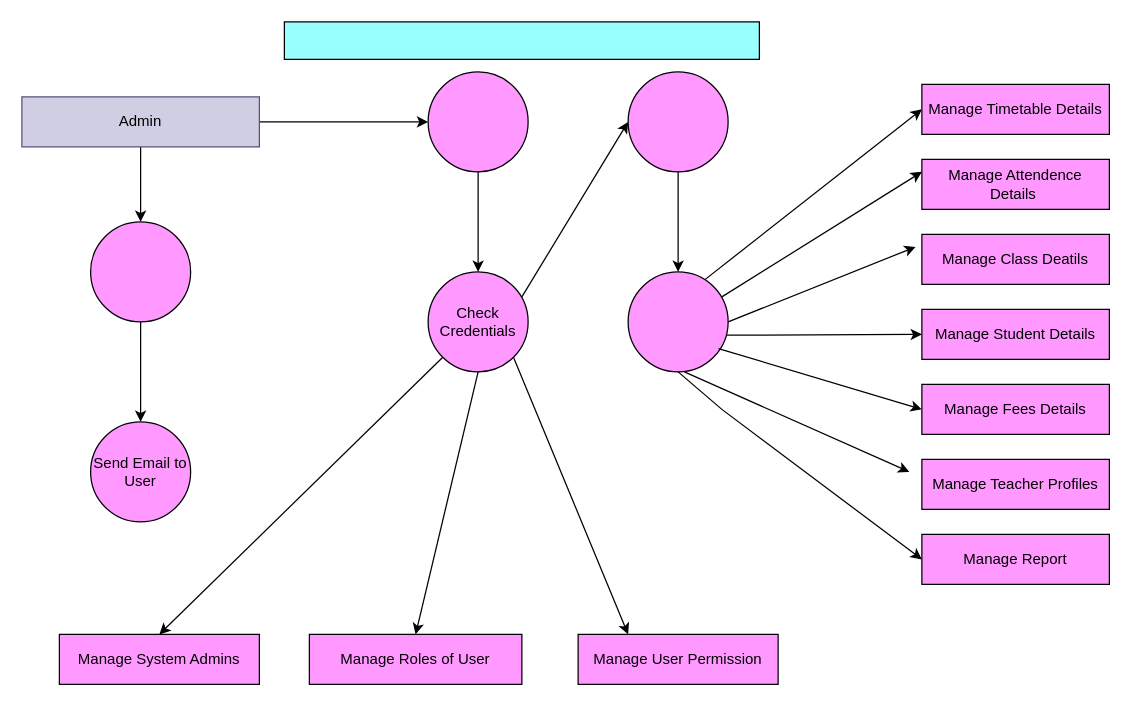
Some shapes in this 1131 by 706 pixel diagram are drawn without their labels. The box of each missing label's shape, as (x1, y1, x2, y2) in pixels:
Check Roles of Access: (627, 71, 728, 172)
Forget Password: (89, 221, 191, 322)
Login to System: (427, 71, 528, 172)
Manage Modules: (627, 271, 728, 372)
Student Information System: (283, 21, 759, 59)
